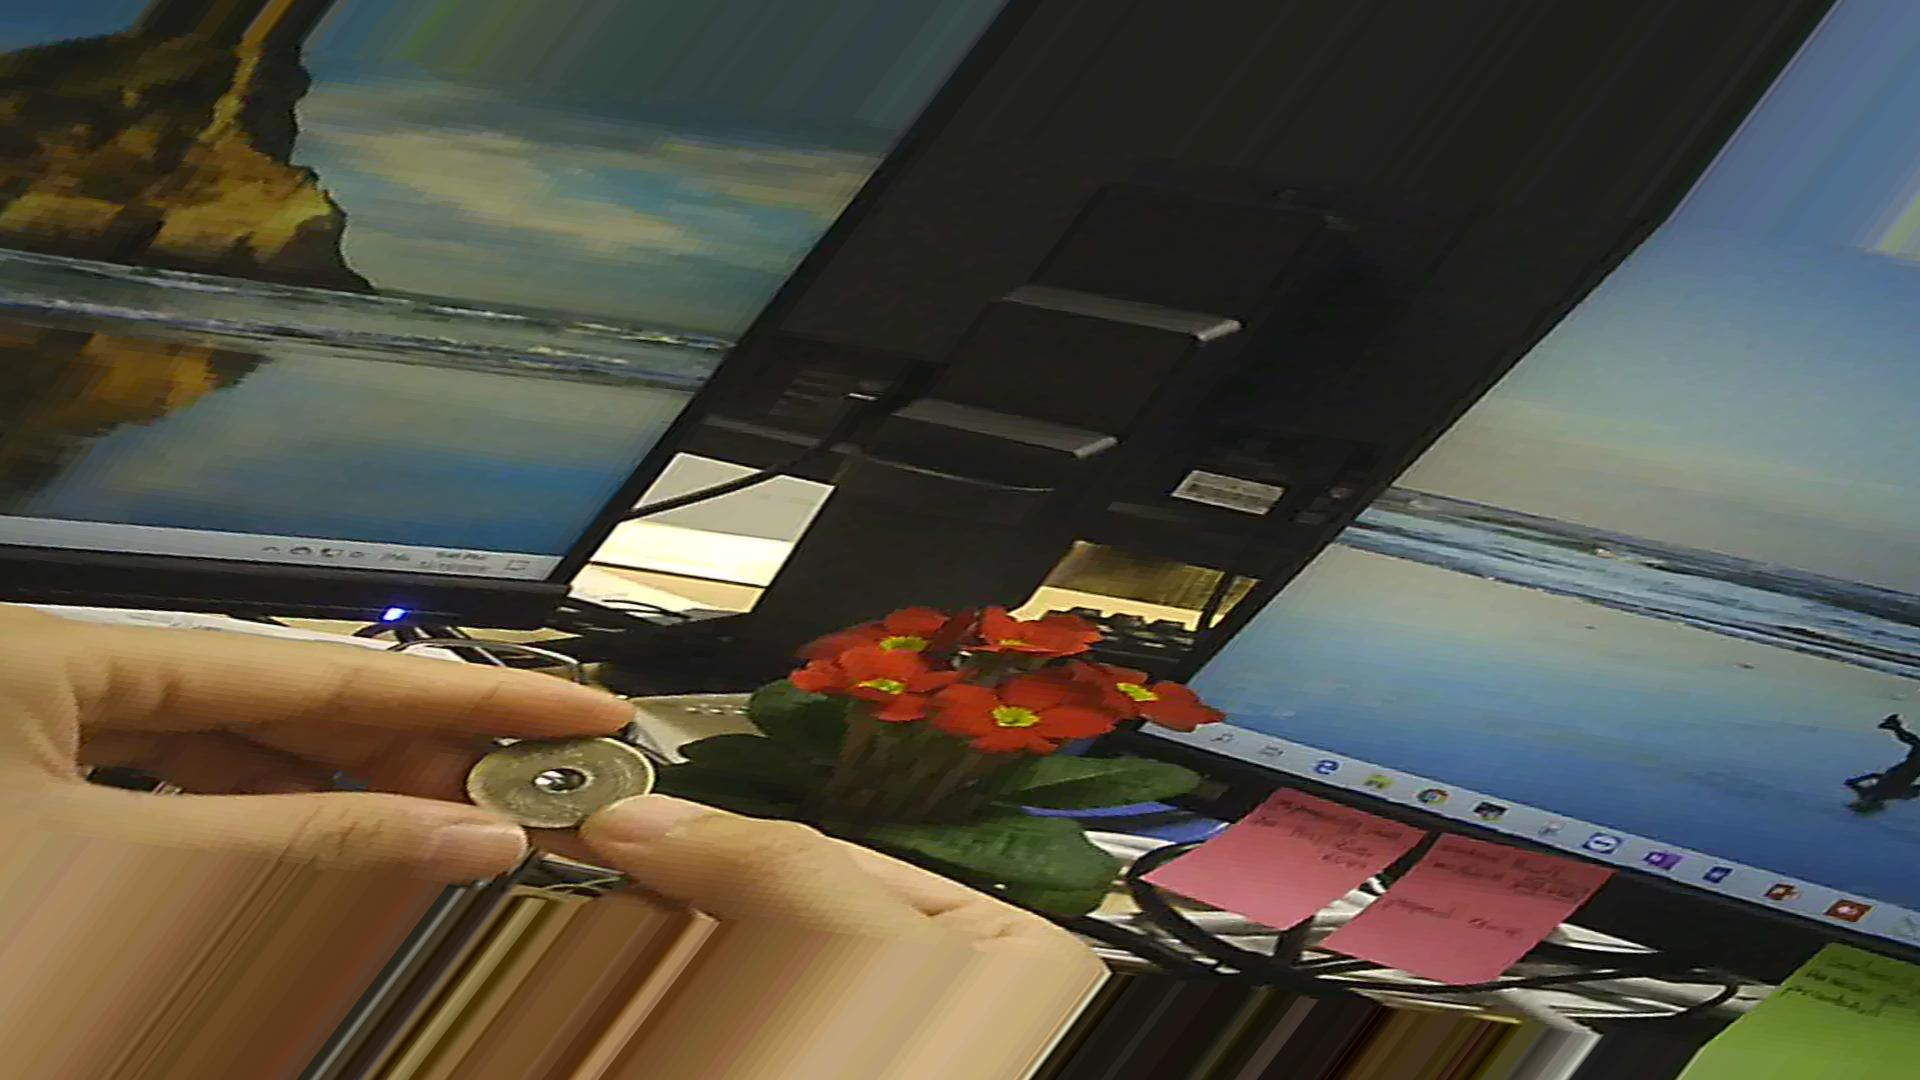5 Yen: (450, 719, 658, 839)
